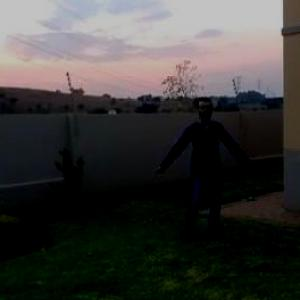land: (141, 98, 251, 238)
